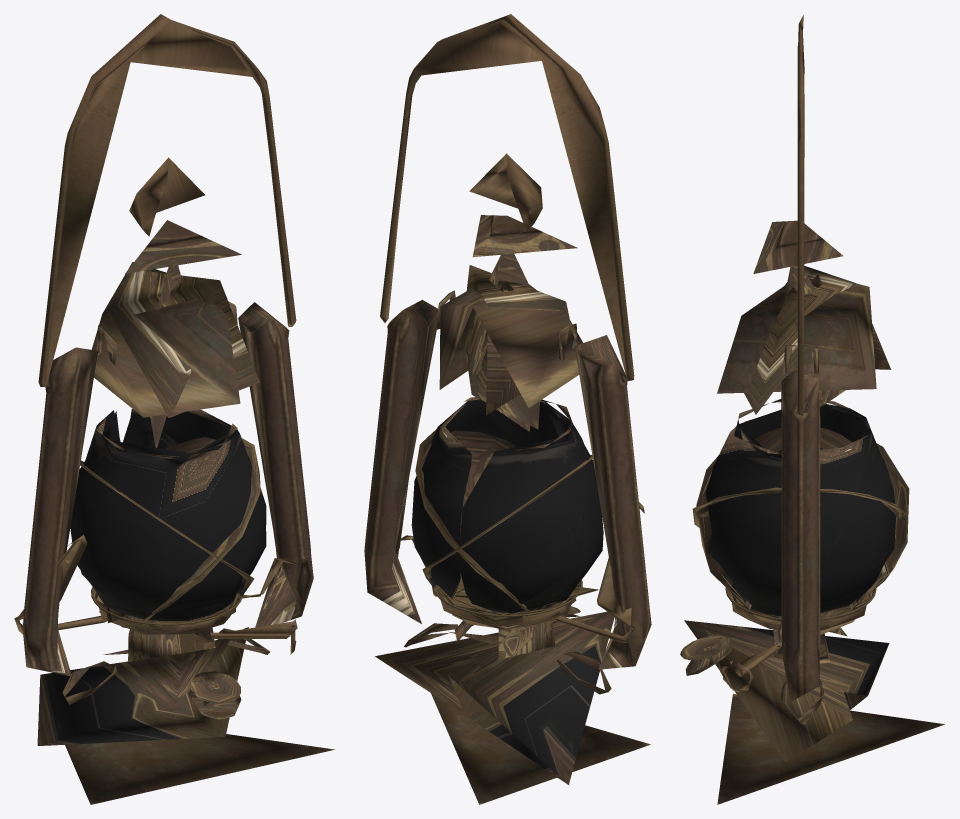
The model's file is lantern.gltf.
The picture shows the model from 3 angles, left to right: view 1: azimuth 30°, elevation 25°; view 2: azimuth 150°, elevation 25°; view 3: azimuth 270°, elevation 25°; orthographic projection.
Visible parts, largest first — view 1: Lantern_01, Lantern_01_glass; view 2: Lantern_01, Lantern_01_glass; view 3: Lantern_01, Lantern_01_glass.
Boxes of the visible parts, bbox=[...] form: Lantern_01: bbox=[14, 14, 334, 804]; Lantern_01_glass: bbox=[70, 409, 266, 625]; Lantern_01: bbox=[364, 14, 651, 804]; Lantern_01_glass: bbox=[411, 397, 603, 618]; Lantern_01: bbox=[680, 15, 944, 804]; Lantern_01_glass: bbox=[705, 399, 895, 616].
Size of the model in its own units: 0.1207 by 0.2958 by 0.0973.
2 materials, 2 textured.
